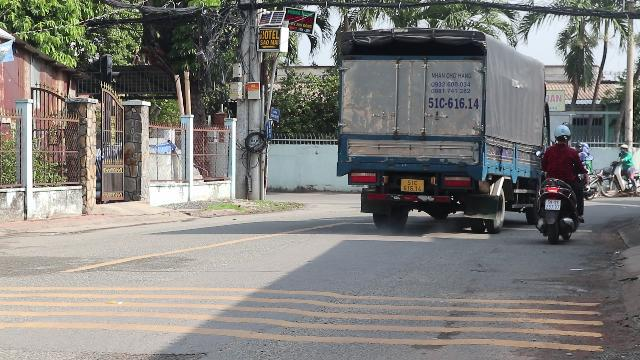helmet: (552, 124, 572, 144)
licenseplate: (546, 200, 560, 210)
motorcyclist: (534, 124, 586, 242)
